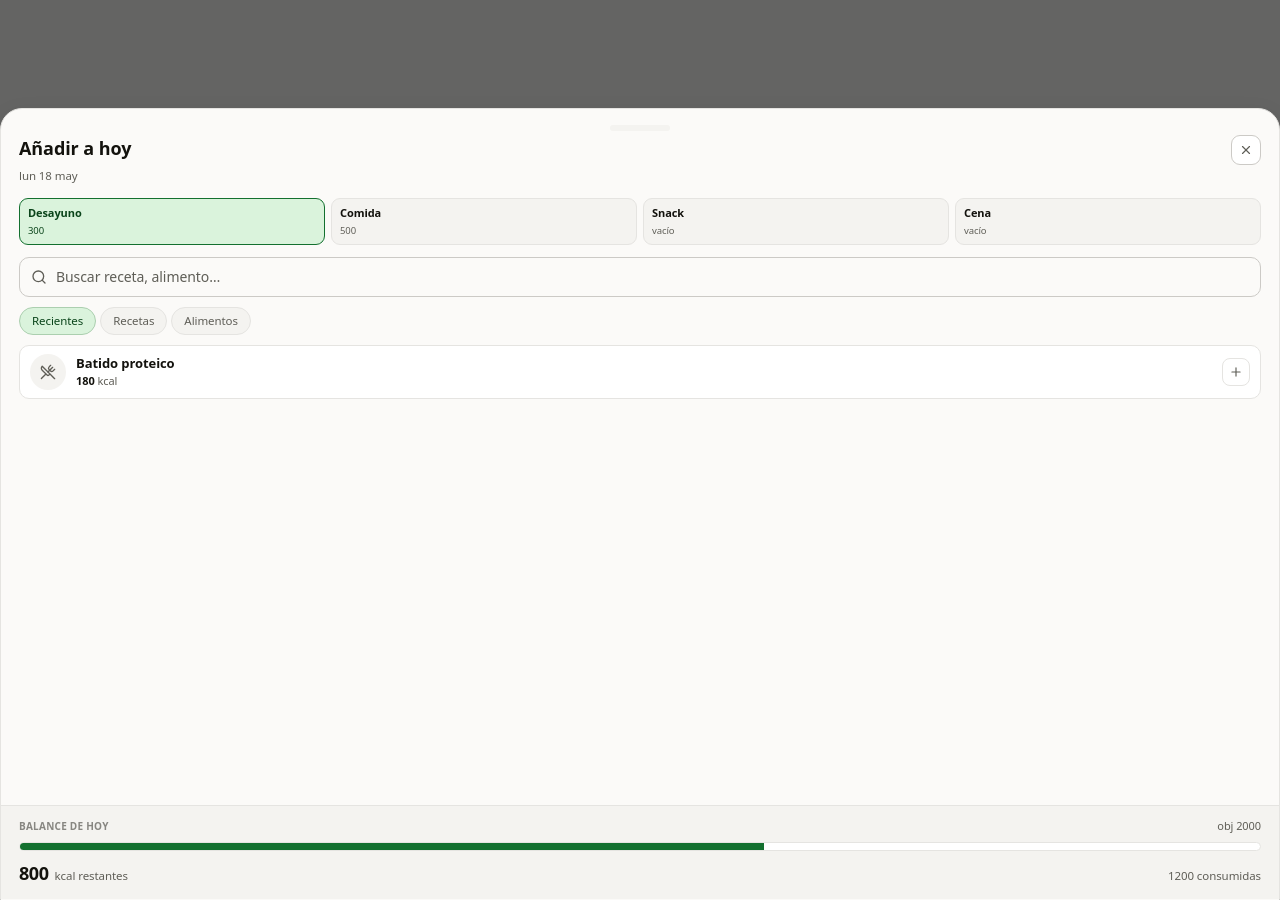
AddToDaySheet › selecting a result row advances to the ración step with a live CTA; back returns to explore
The width and height of the screenshot is (1280, 900).
Step 1. Press the mouse on the tab "Recetas" → {"x": 134, "y": 321}, box [100, 307, 167, 335]
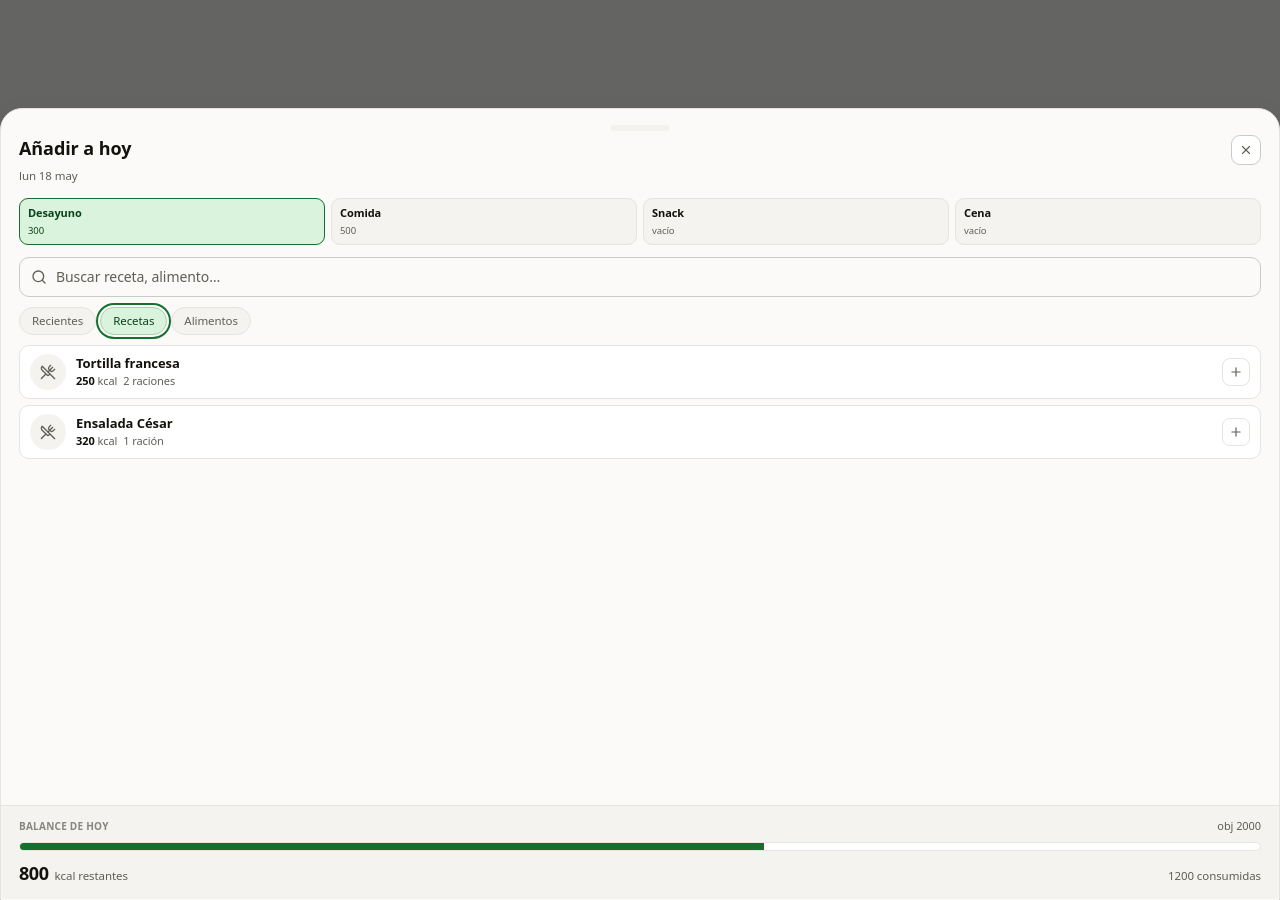
Step 2. Click the text "Ensalada César" → {"x": 124, "y": 423}, box [76, 414, 172, 432]
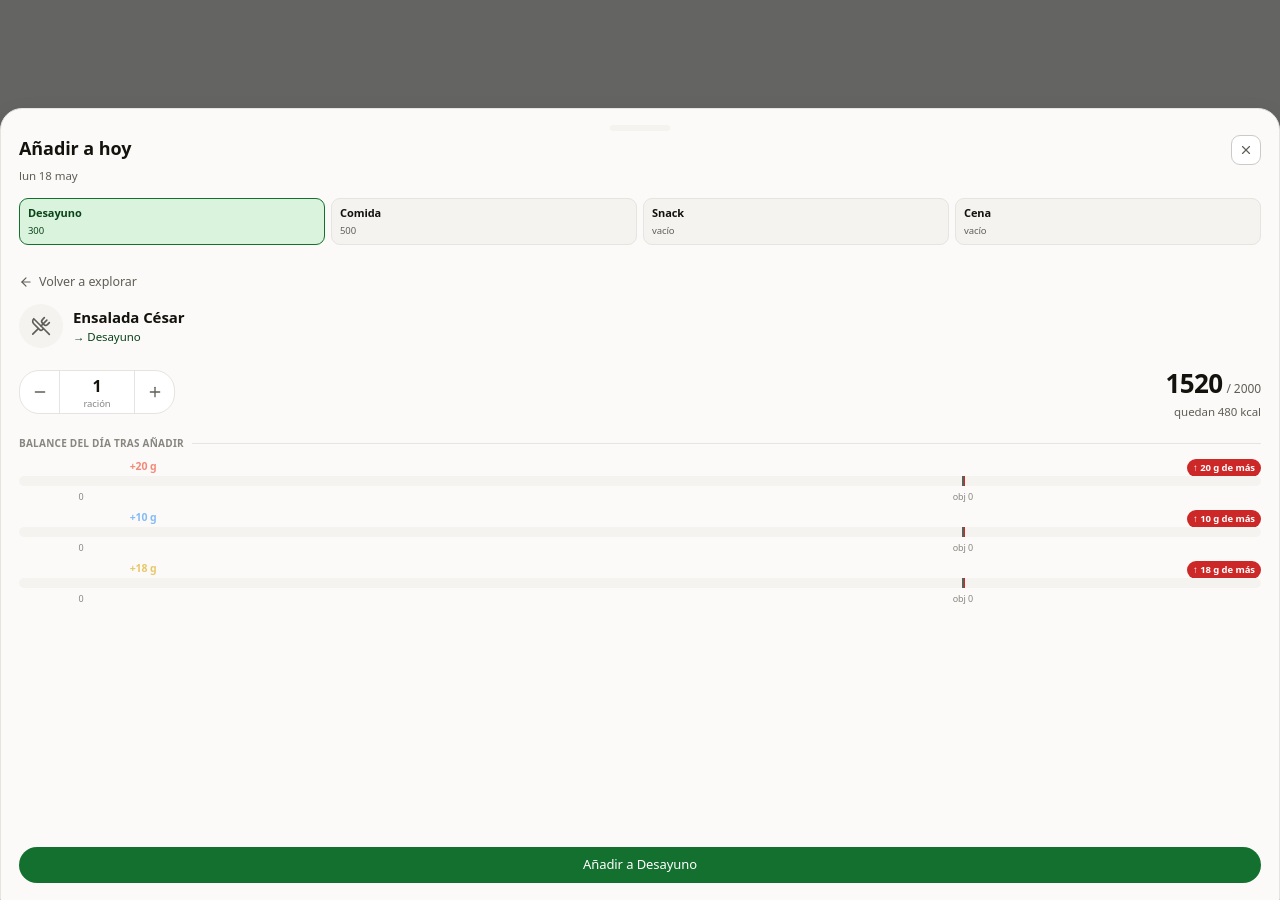
Expected: the text "Ensalada César" is shown, [73, 307, 184, 327]
Expected: the button "Volver a explorar" is shown
Expected: the button "Añadir a Desayuno" is enabled, [19, 847, 1261, 883]
Step 3. Click the button "Volver a explorar" → {"x": 78, "y": 282}, box [19, 273, 137, 292]
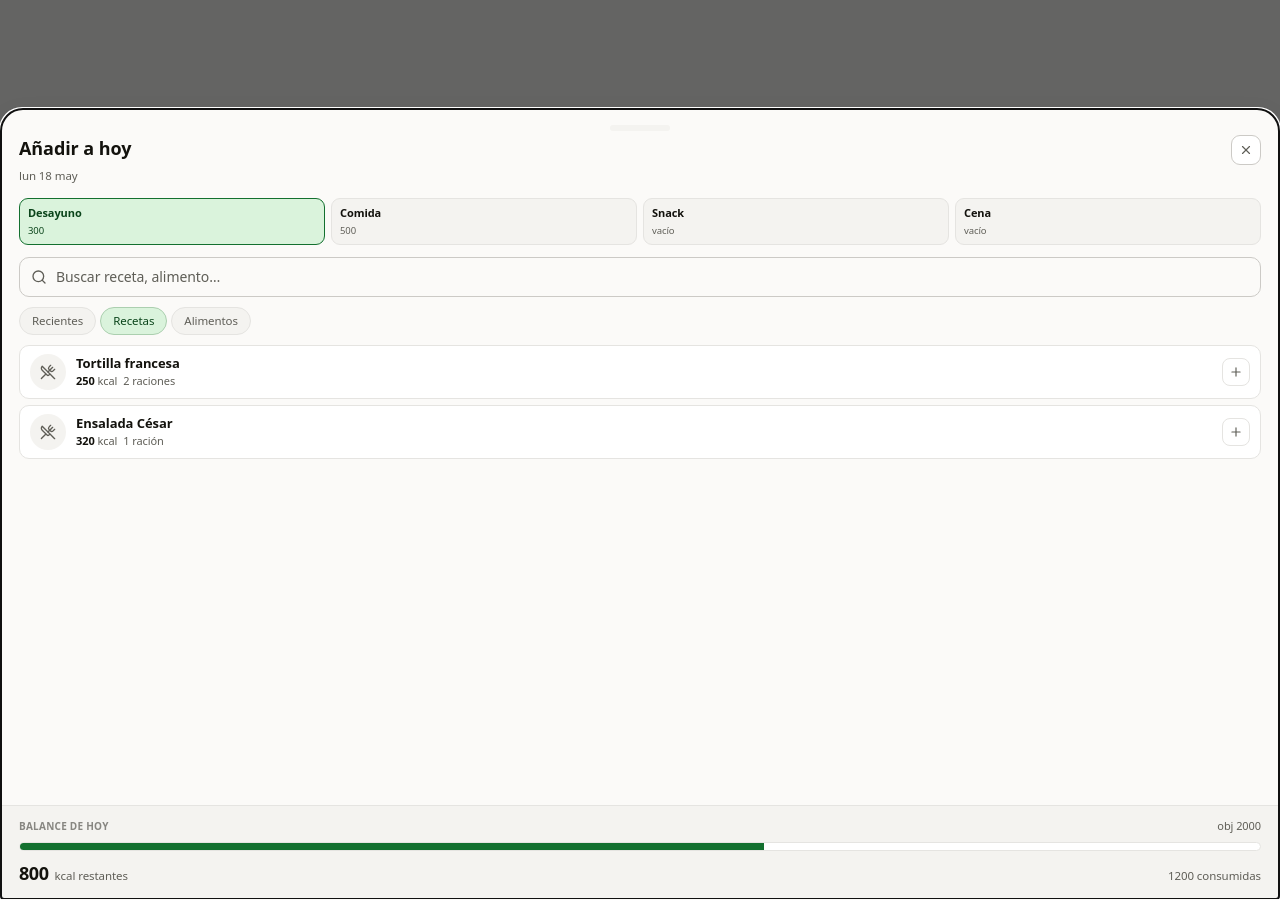
Expected: the field with placeholder "Buscar receta, alimento…" is shown, [19, 257, 1261, 297]
